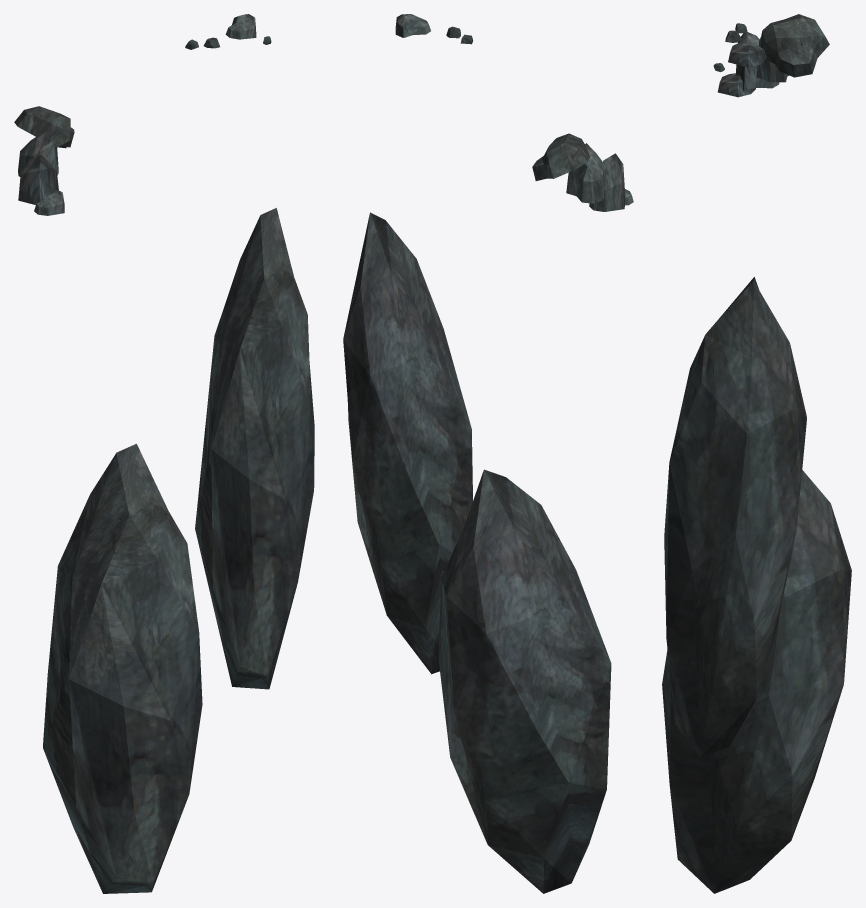
Rendered from object_rubble27.fbx.
3 renders of one model, left to right at view 1: azimuth 30°, elevation 25°; view 2: azimuth 150°, elevation 25°; view 3: azimuth 270°, elevation 25°, orthographic. The views are drawn at different scales.
Parts seen in each view (by area): view 1: obj1.024; view 2: obj1.024; view 3: obj1.024.
Boxes of the visible parts, x1,y1,x2,y2 form: obj1.024: (14, 14, 314, 893); obj1.024: (343, 14, 633, 893); obj1.024: (662, 14, 851, 893).
Bounding box in the file's own units: 12.23 × 34.36 × 6.51.
